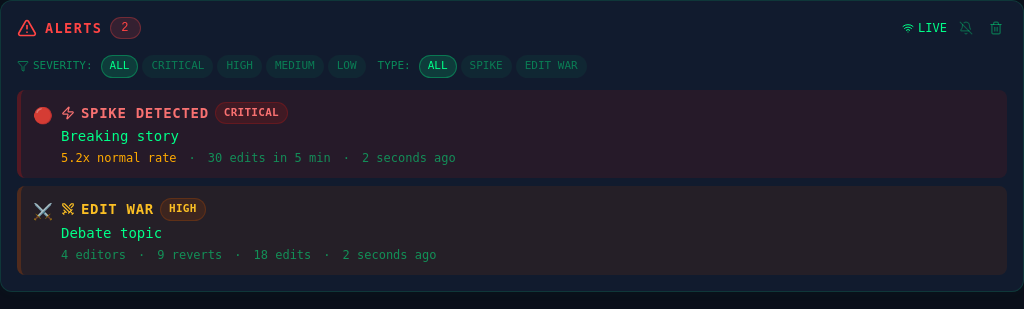
Test case: AlertsPanel › clear all button removes all alerts
The image size is (1024, 309).
Expected: the link "Breaking story" is shown, [61,128,179,144]
Click the button named "Clear all alerts" at [996, 28], box [985,17,1007,39]
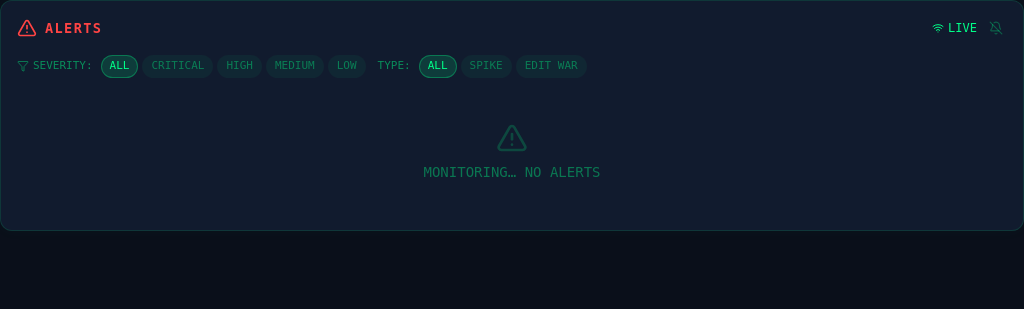
Expected: the link "Breaking story" is gone
Expected: the link "Debate topic" is gone
Expected: the text "MONITORING… NO ALERTS" is shown, [424,122,600,180]
